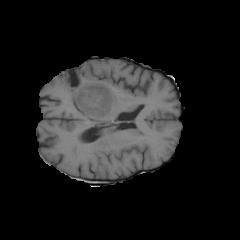glioma: (58, 72, 112, 119)
